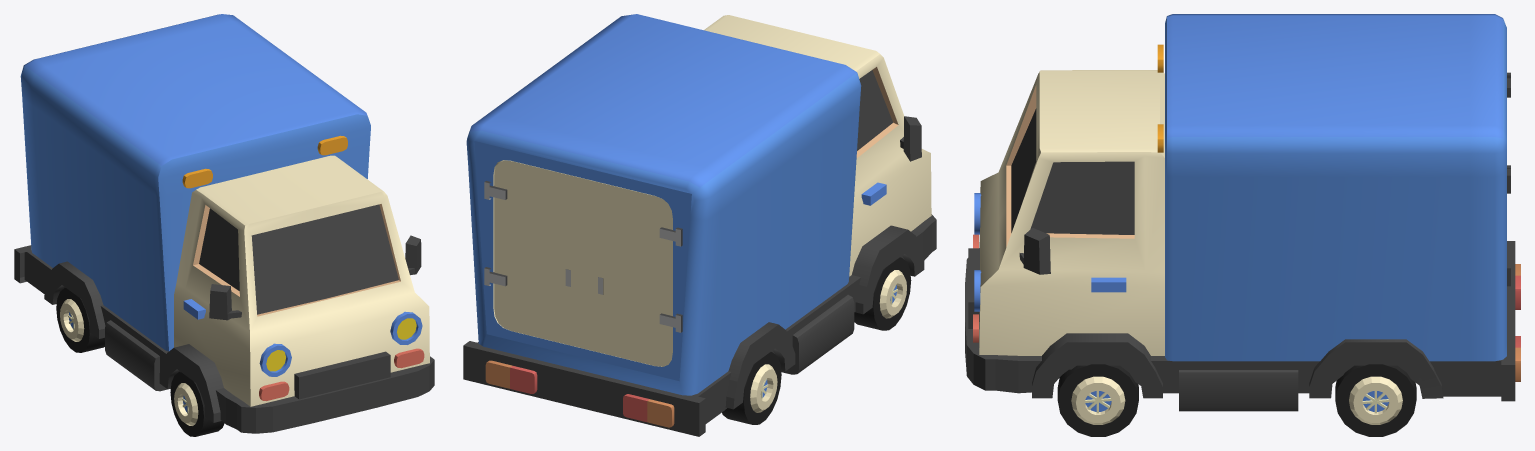
The model's file is Blue_Middle_Truck.fbx.
The picture shows the model from 3 angles, left to right: view 1: azimuth 30°, elevation 25°; view 2: azimuth 150°, elevation 25°; view 3: azimuth 270°, elevation 25°; orthographic projection. The views are drawn at different scales.
Visible parts, largest first — view 1: Blue_Middle_Truck, Blue_Middle_Truck_Wheel, Blue_Middle_Truck_Wheel2; view 2: Blue_Middle_Truck, Middle_Left_Door004, Middle_Right_Door004, Blue_Middle_Truck_Wheel, Blue_Middle_Truck_Wheel2; view 3: Blue_Middle_Truck, Blue_Middle_Truck_Wheel, Blue_Middle_Truck_Wheel2.
Boxes of the visible parts, left/top/right/bottom form: Blue_Middle_Truck: left=14, top=14, right=434, bottom=433; Blue_Middle_Truck_Wheel: left=170, top=371, right=224, bottom=436; Blue_Middle_Truck_Wheel2: left=56, top=287, right=104, bottom=352; Blue_Middle_Truck: left=463, top=14, right=936, bottom=436; Middle_Left_Door004: left=484, top=160, right=584, bottom=348; Middle_Right_Door004: left=584, top=178, right=682, bottom=366; Blue_Middle_Truck_Wheel: left=854, top=257, right=911, bottom=330; Blue_Middle_Truck_Wheel2: left=722, top=352, right=781, bottom=424; Blue_Middle_Truck: left=965, top=14, right=1520, bottom=411; Blue_Middle_Truck_Wheel: left=1057, top=364, right=1138, bottom=436; Blue_Middle_Truck_Wheel2: left=1335, top=364, right=1416, bottom=436.
Bounding box in the file's own units: 250 × 277 × 457.
